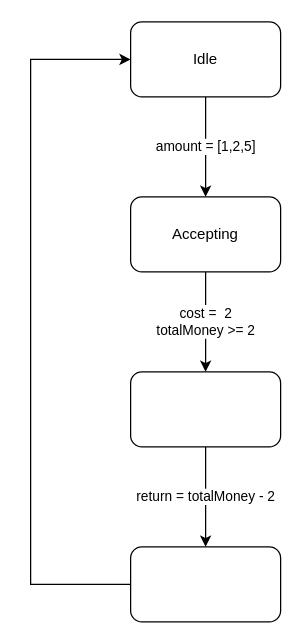
Some shapes in this 303 by 644 pixel diagram are drawn without their labels. The shapes that lost their labels are listed below. From the top down, each one's box as (x1, y1, x2, y2) in pixels, then its label:
(129, 371, 281, 447): Dispensing
(129, 546, 281, 622): Refund
